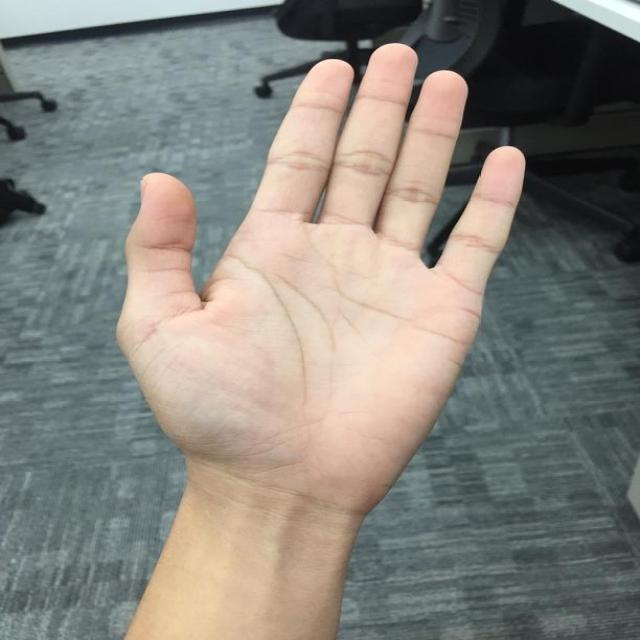hand: (117, 41, 527, 497)
